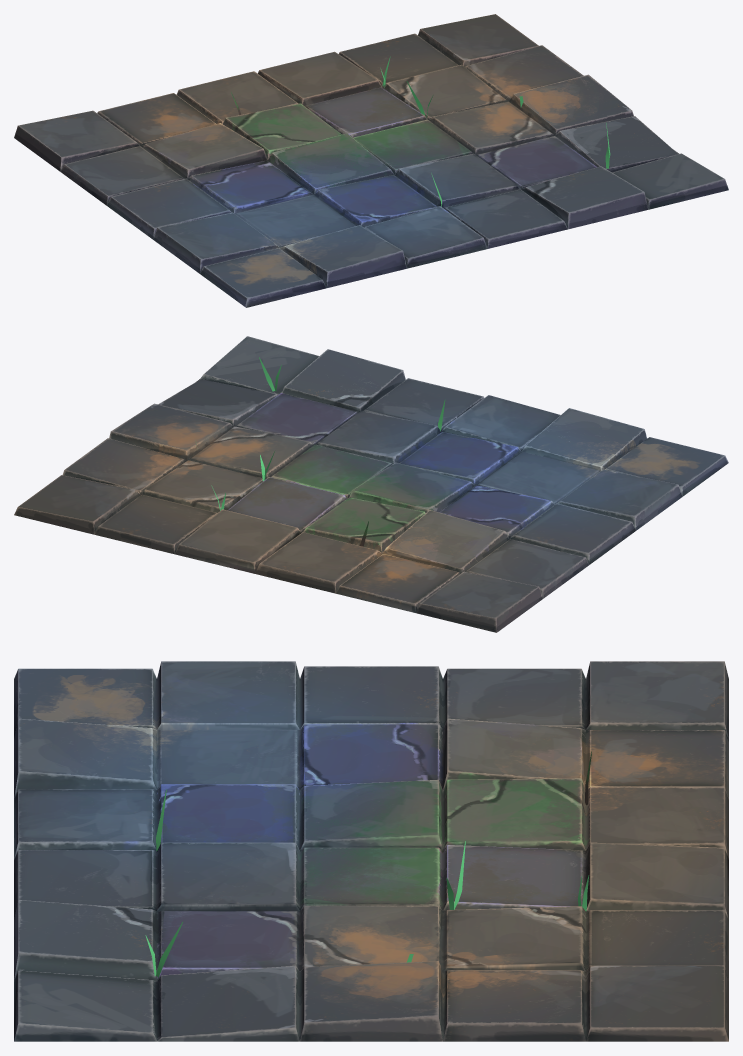
File: floor_tiles_fixed.fbx
The picture shows the model from 3 angles, top to bottom: view 1: azimuth 30°, elevation 25°; view 2: azimuth 150°, elevation 25°; view 3: azimuth 270°, elevation 25°; orthographic projection. The views are drawn at different scales.
Parts seen in each view (by area): view 1: Floor tiles; view 2: Floor tiles; view 3: Floor tiles.
Part boxes in pixels (left/top/right/bottom): Floor tiles: left=14, top=14, right=728, bottom=307; Floor tiles: left=14, top=336, right=728, bottom=632; Floor tiles: left=14, top=661, right=728, bottom=1041.
Bounding box in the file's own units: 4.95 × 0.4394 × 4.12.
Materials: 2 (1 with a texture image).
